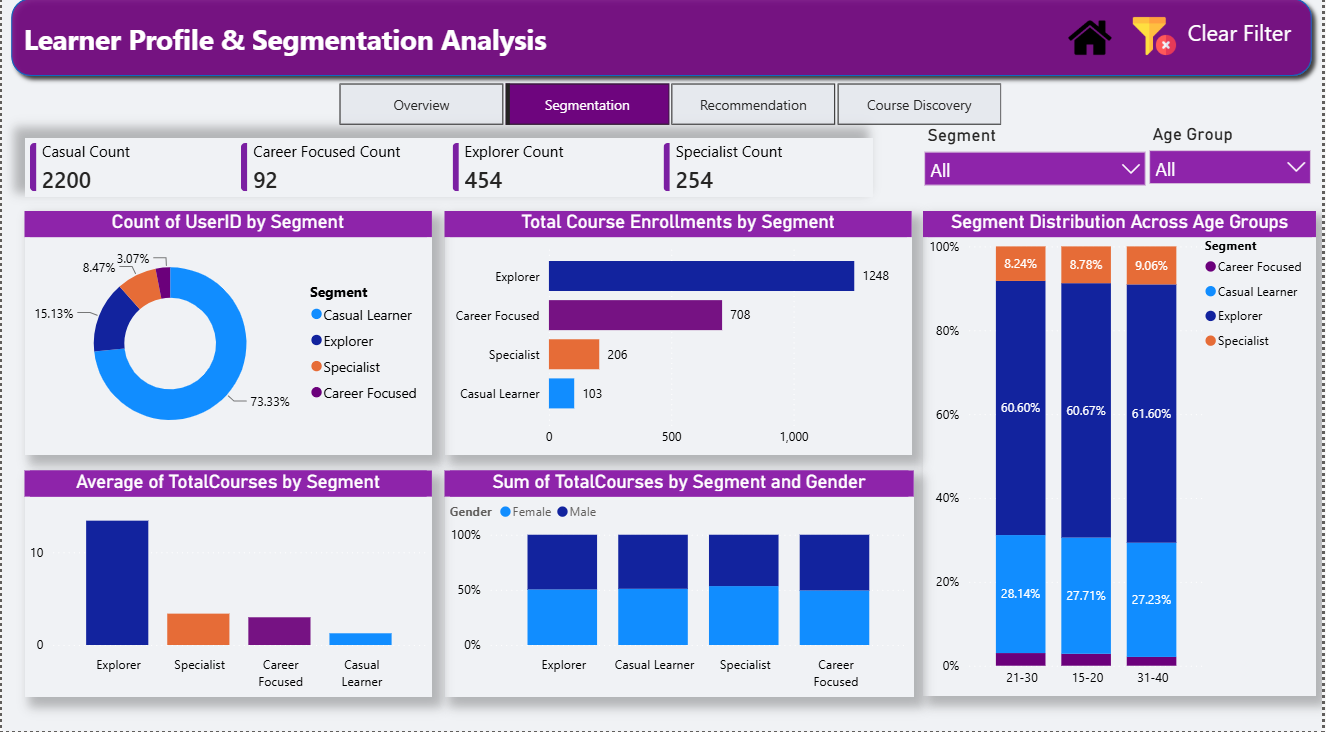

What the dashboard file says about the page in this screenshot:
{"tool":"powerbi","page":{"name":" Segmentation ","canvas":[1280,720],"ordinal":1},"visuals":[{"type":"shape","box":[0,0,1280,93.3],"z":0},{"type":"textbox","box":[16.7,25,535,60],"z":1000},{"type":"cardVisual","fields":{"Data":["Learner_Profile.Casual Count","Learner_Profile.Career Focused Count","Learner_Profile.Explorer Count","Learner_Profile.Specialist Count"]},"box":[21.7,143.5,823.2,58],"z":2000},{"type":"donutChart","fields":{"Category":["Learner_Profile.Segment"],"Y":["CountNonNull(Learner_Profile.UserID)"]},"box":[21.7,215,395,236.7],"z":3000},{"type":"clusteredBarChart","title":"Total Course Enrollments by Segment","fields":{"Category":["Learner_Profile.Segment"],"Y":["Avg(Learner_Profile.TotalSpending)"]},"box":[430,215,453.3,236.7],"z":4000},{"type":"clusteredColumnChart","fields":{"Category":["Learner_Profile.Segment"],"Y":["Avg(Learner_Profile.TotalCourses)"]},"box":[21.7,466.7,395,220],"z":5000},{"type":"hundredPercentStackedColumnChart","fields":{"Category":["Learner_Profile.Segment"],"Y":["Sum(Learner_Profile.TotalCourses)"],"Series":["Learner_Profile.Gender"]},"box":[430,466.7,455,220],"z":6000},{"type":"textbox","box":[1145,21.7,115,46.7],"z":7000},{"type":"image","box":[1086.7,25,61.7,41.7],"z":8000},{"type":"slicer","fields":{"Values":["Learner_Profile.Segment"]},"box":[885.5,126.1,234.8,72.5],"z":9000},{"type":"slicer","fields":{"Values":["Learner_Profile.Age Group"]},"box":[1102.9,124.6,176.8,68.1],"z":10000},{"type":"hundredPercentStackedColumnChart","title":"Segment Distribution Across Age Groups","fields":{"Category":["Learner_Profile.Age Group"],"Y":["Sum(Learner_Profile.TotalCourses)"],"Series":["Learner_Profile.Segment"]},"box":[893.4,215,381.6,470.9],"z":11000},{"type":"image","box":[1025,26.7,61.7,41.7],"z":12000},{"type":"pageNavigator","box":[327.5,91.3,642,40.6],"z":13000}]}

Visuals, with their boxes in screenshot pixels (x1, y1, x2, y2), scaled from the page's 1280x720 canvas onto the 1326x732 screenshot:
shape: left=0, top=0, right=1325, bottom=95
textbox: left=17, top=25, right=572, bottom=86
cardVisual - Learner_Profile.Casual Count x Learner_Profile.Career Focused Count: left=22, top=146, right=875, bottom=205
donutChart - Learner_Profile.Segment x CountNonNull(Learner_Profile.UserID): left=22, top=219, right=432, bottom=459
"Total Course Enrollments by Segment" clusteredBarChart: left=445, top=219, right=915, bottom=459
clusteredColumnChart - Learner_Profile.Segment x Avg(Learner_Profile.TotalCourses): left=22, top=474, right=432, bottom=698
hundredPercentStackedColumnChart - Learner_Profile.Segment x Sum(Learner_Profile.TotalCourses): left=445, top=474, right=917, bottom=698
textbox: left=1186, top=22, right=1305, bottom=70
image: left=1126, top=25, right=1190, bottom=68
slicer - Learner_Profile.Segment: left=917, top=128, right=1161, bottom=202
slicer - Learner_Profile.Age Group: left=1143, top=127, right=1325, bottom=196
"Segment Distribution Across Age Groups" hundredPercentStackedColumnChart: left=926, top=219, right=1321, bottom=697
image: left=1062, top=27, right=1126, bottom=70
pageNavigator: left=339, top=93, right=1004, bottom=134
